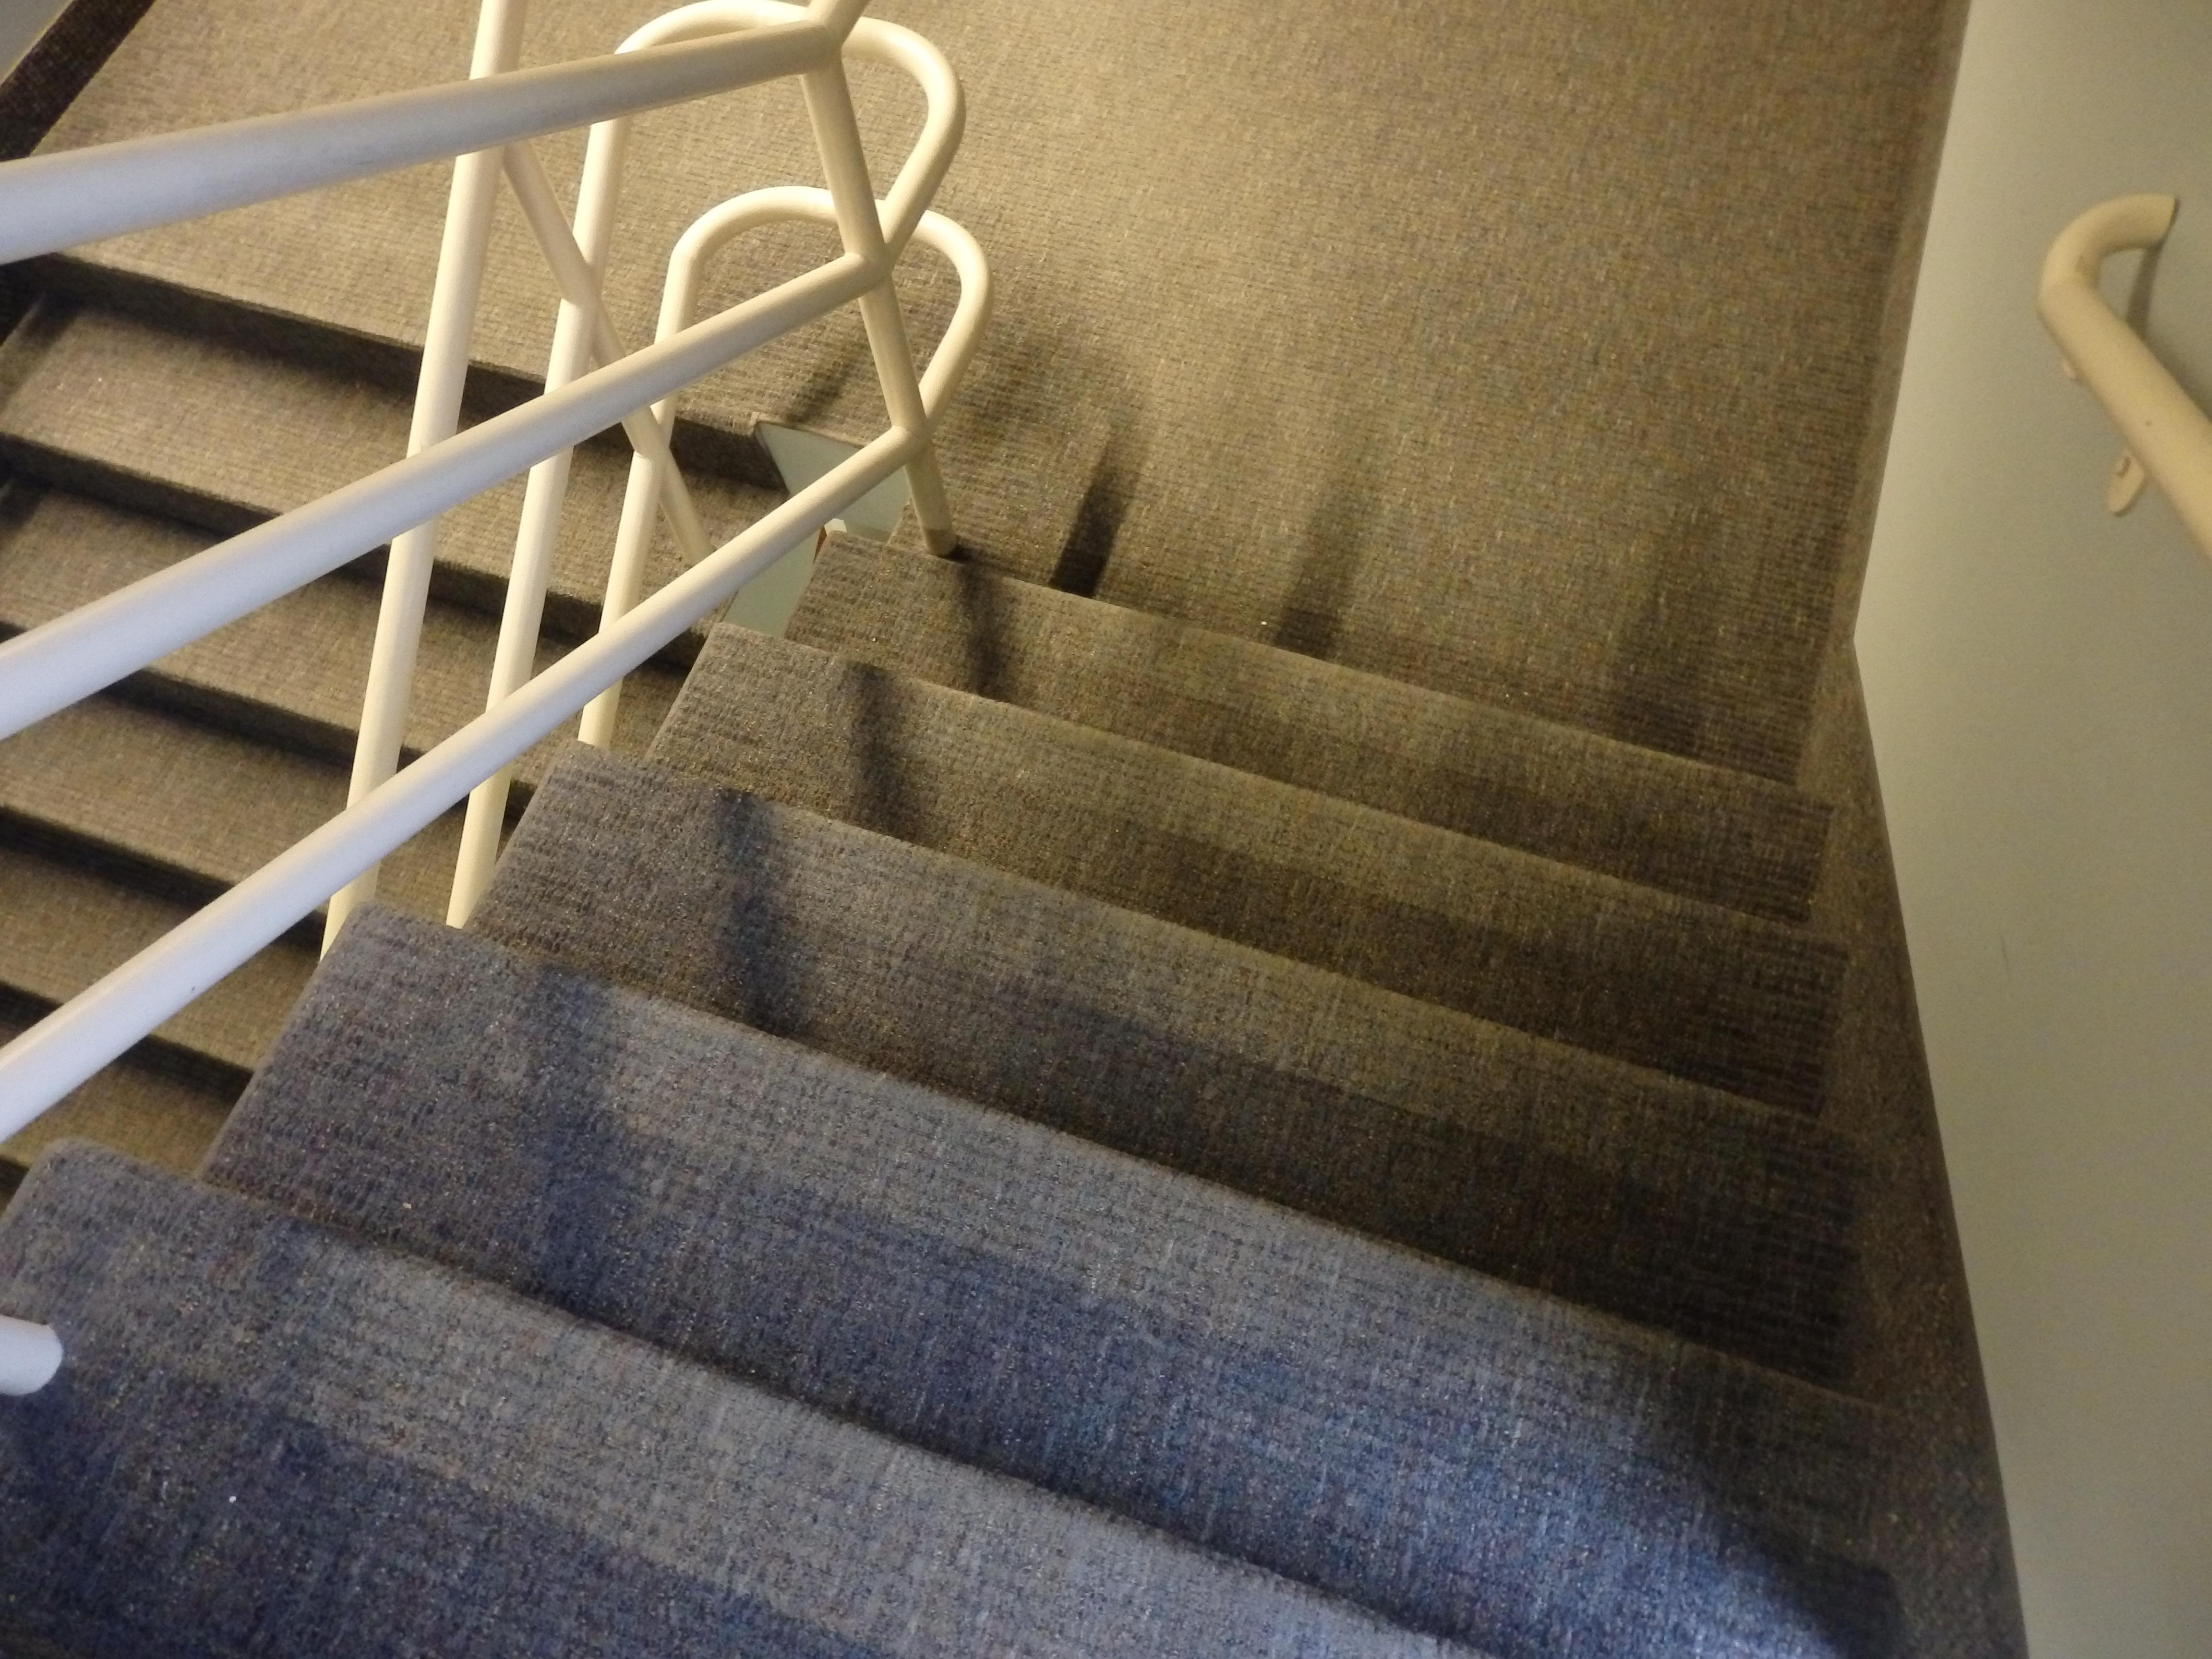stairs_down: (31, 570, 1838, 1659)
